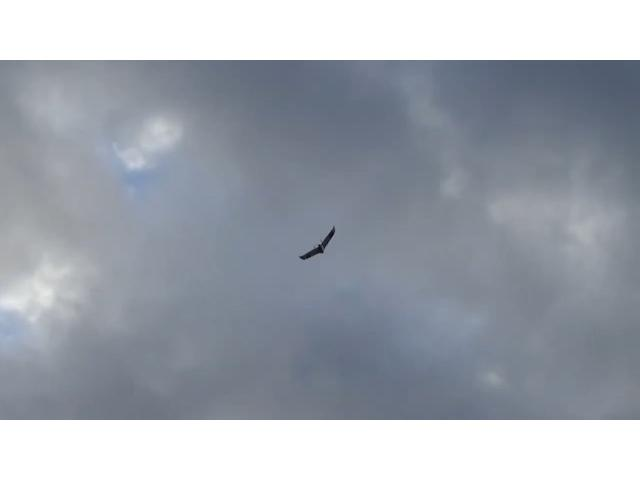Anti-Drone: (298, 224, 336, 260)
